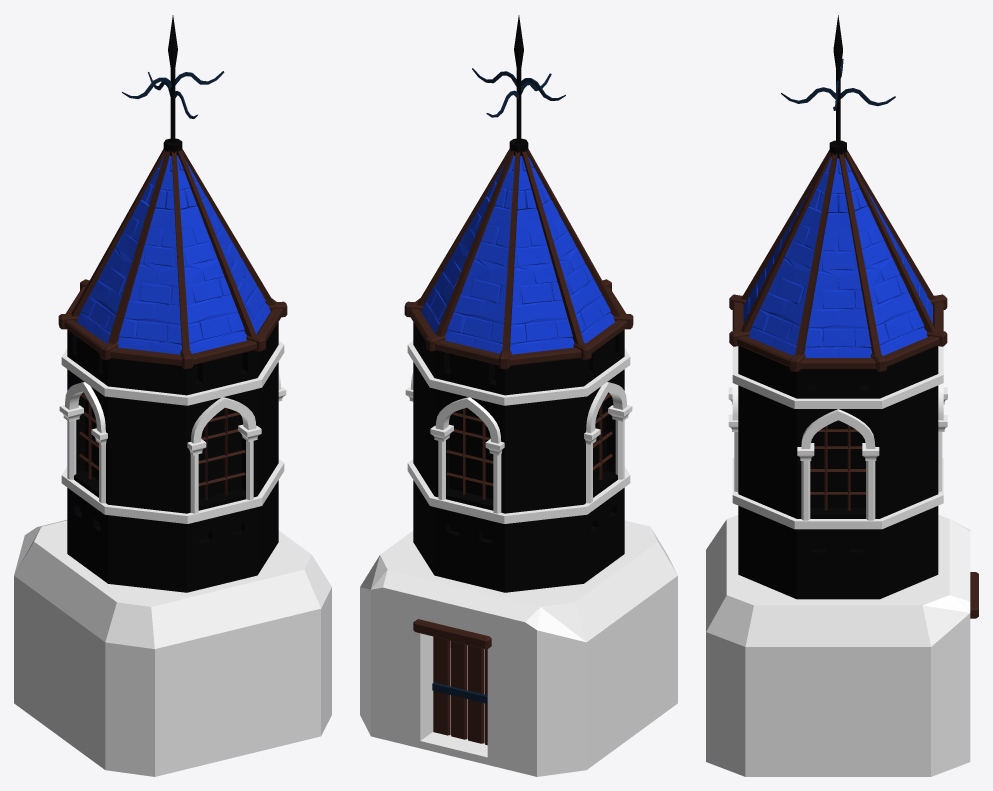
File: roof_building_1.FBX
3 renders of one model, left to right at view 1: azimuth 30°, elevation 25°; view 2: azimuth 150°, elevation 25°; view 3: azimuth 270°, elevation 25°, orthographic.
Parts seen in each view (by area): view 1: roof_building_1; view 2: roof_building_1; view 3: roof_building_1.
Boxes of the visible parts, x1=… form: roof_building_1: x1=14, y1=15, x2=331, y2=776; roof_building_1: x1=360, y1=15, x2=677, y2=776; roof_building_1: x1=706, y1=15, x2=978, y2=776.
Size of the model in its own units: 368 by 1080 by 378.
